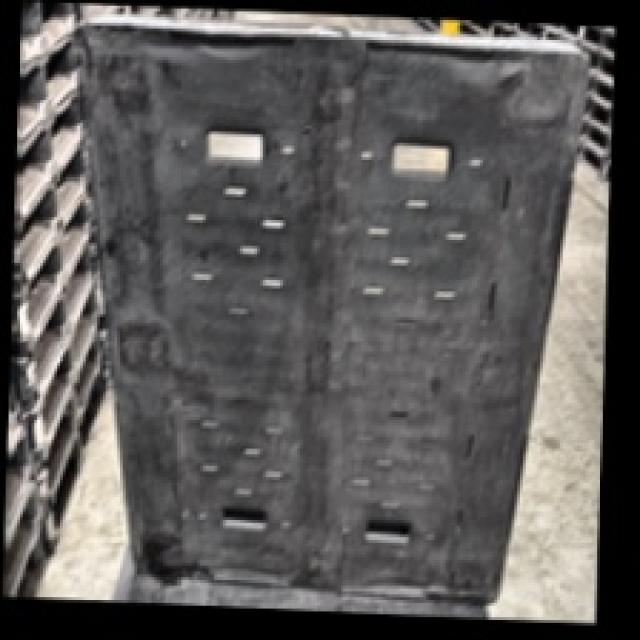igps: (60, 0, 599, 613)
